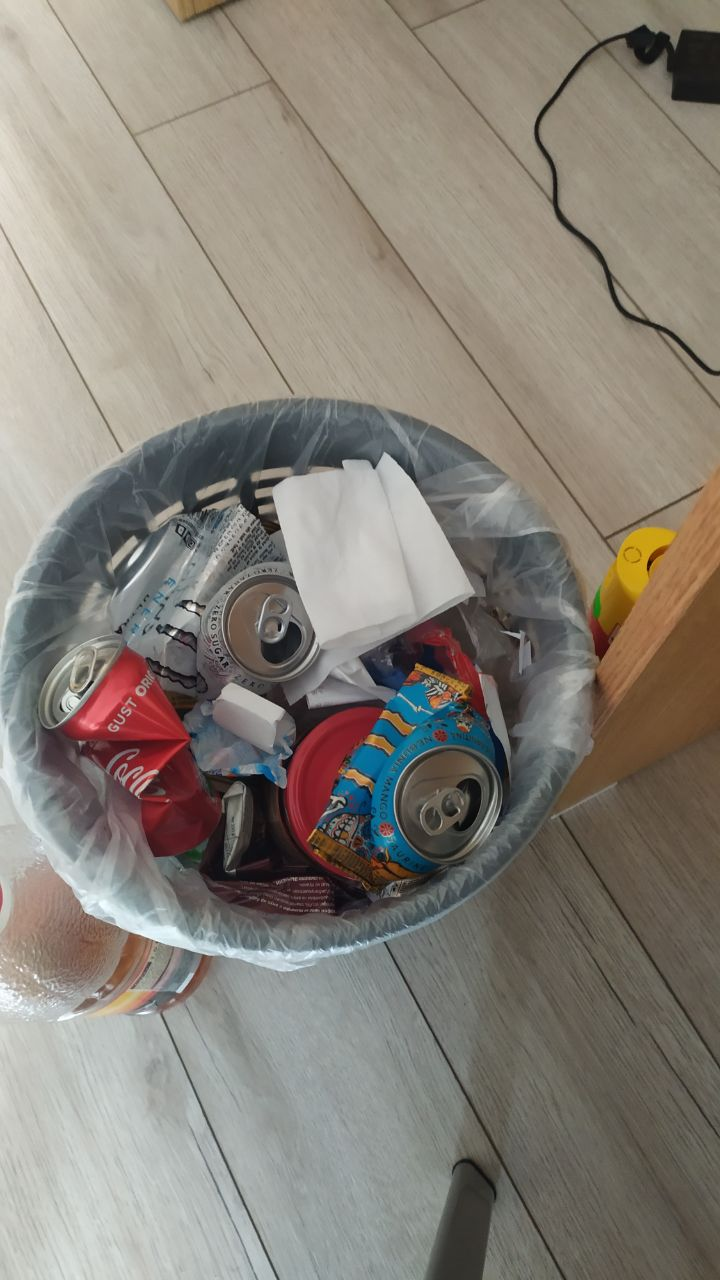Can: (303, 660, 508, 880), (37, 636, 228, 853), (127, 503, 323, 689)
